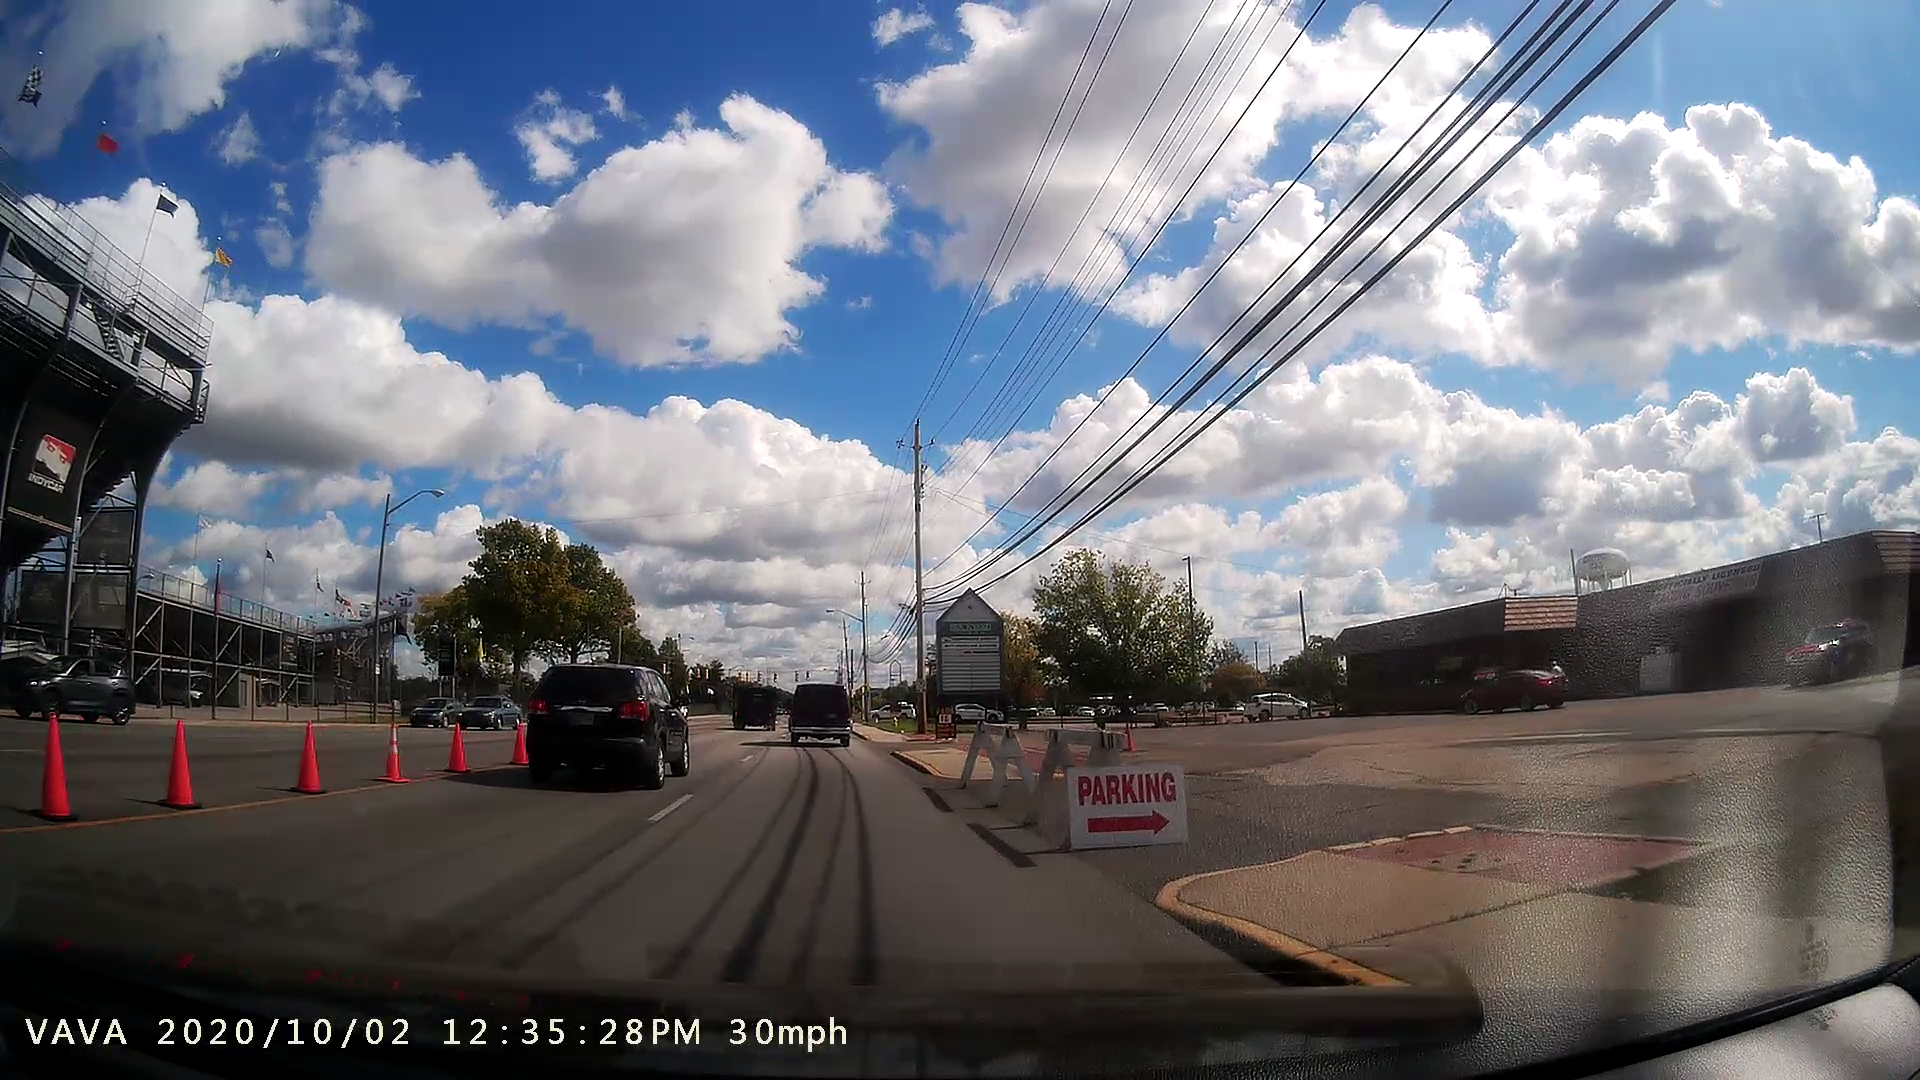const_barricade: (945, 712, 1046, 819)
const_cone: (22, 700, 100, 833), (146, 705, 215, 814), (277, 712, 347, 808), (363, 715, 423, 793), (436, 705, 477, 795)
